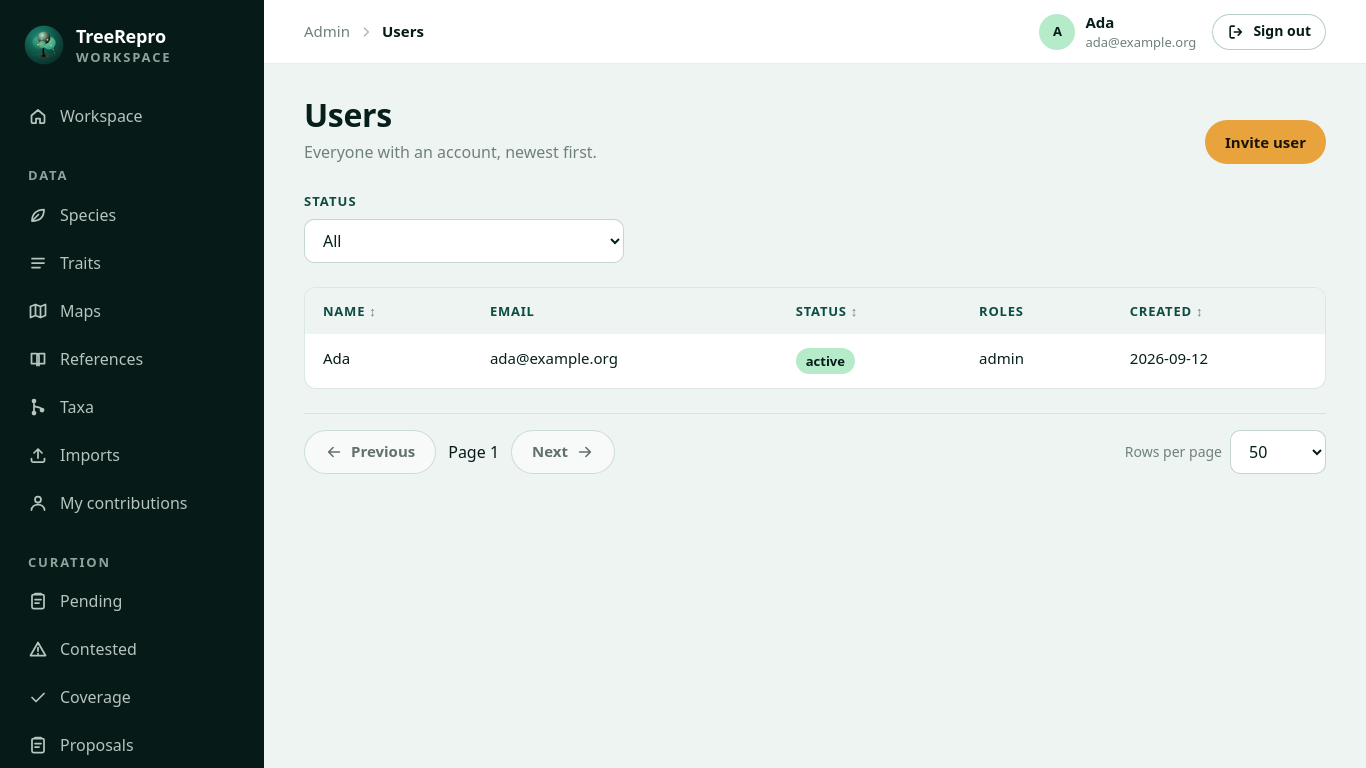
it: RFC-13 R2, RFC-50 R2 UsersPage › RFC-50 R3 invites a user and refreshes the list
Check: the heading "Users" is shown, box left=304, top=93, right=392, bottom=136
Check: the table is shown, box left=305, top=288, right=1325, bottom=388
Click the button "Invite user" at (1265, 142), box left=1205, top=120, right=1326, bottom=164
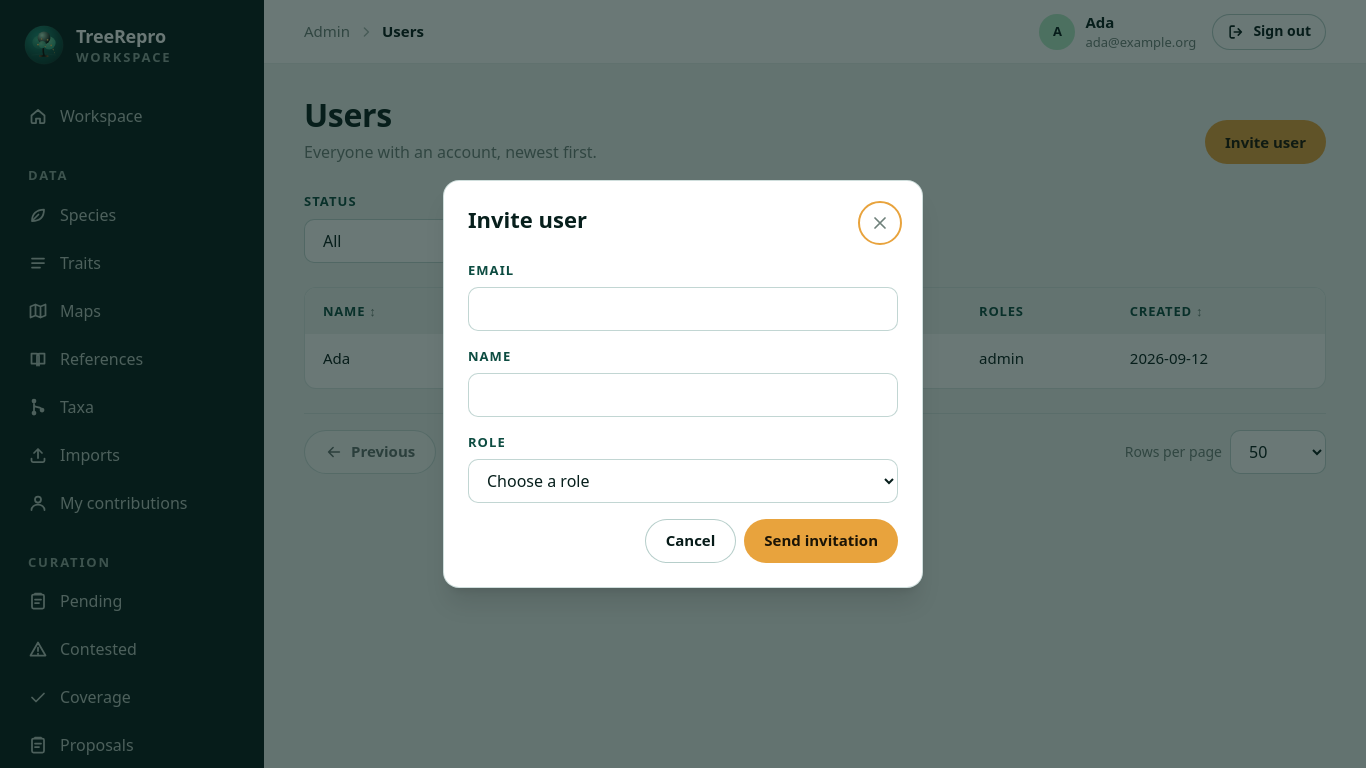
Type "bea@example.org" into the field labelled "Email" at (683, 309), box left=468, top=287, right=898, bottom=331
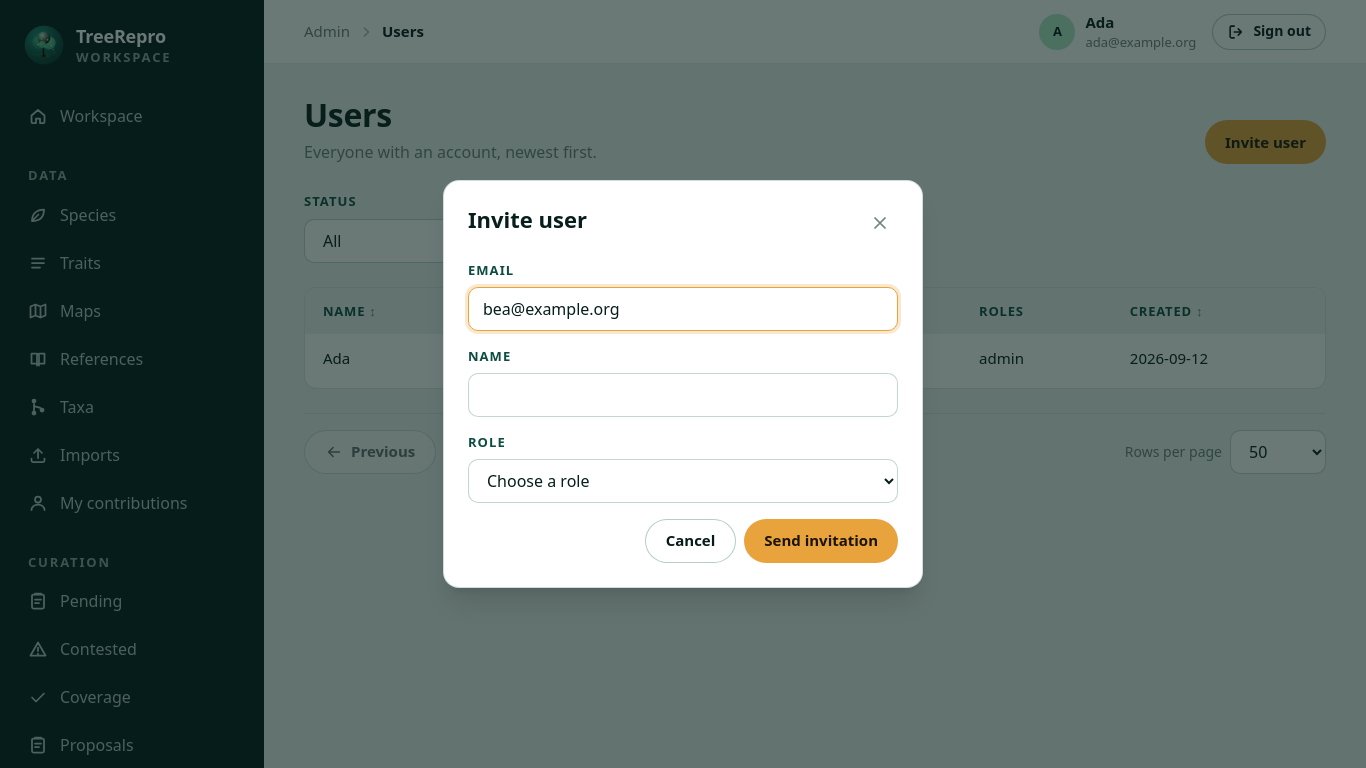
Type "Bea" into the field labelled "Name" at (683, 395), box left=468, top=373, right=898, bottom=417
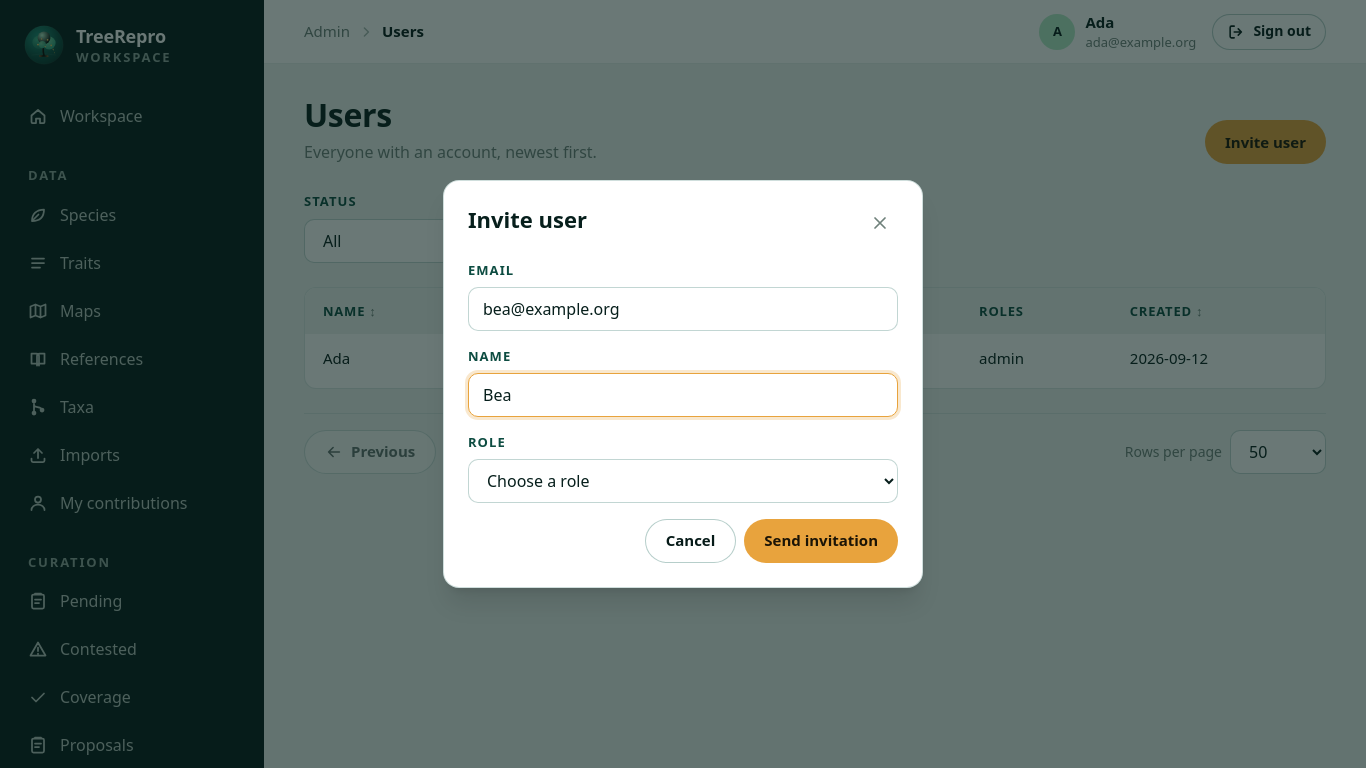
Select "Readers" in the dropdown labelled "Role" at (683, 481), box left=468, top=459, right=898, bottom=503
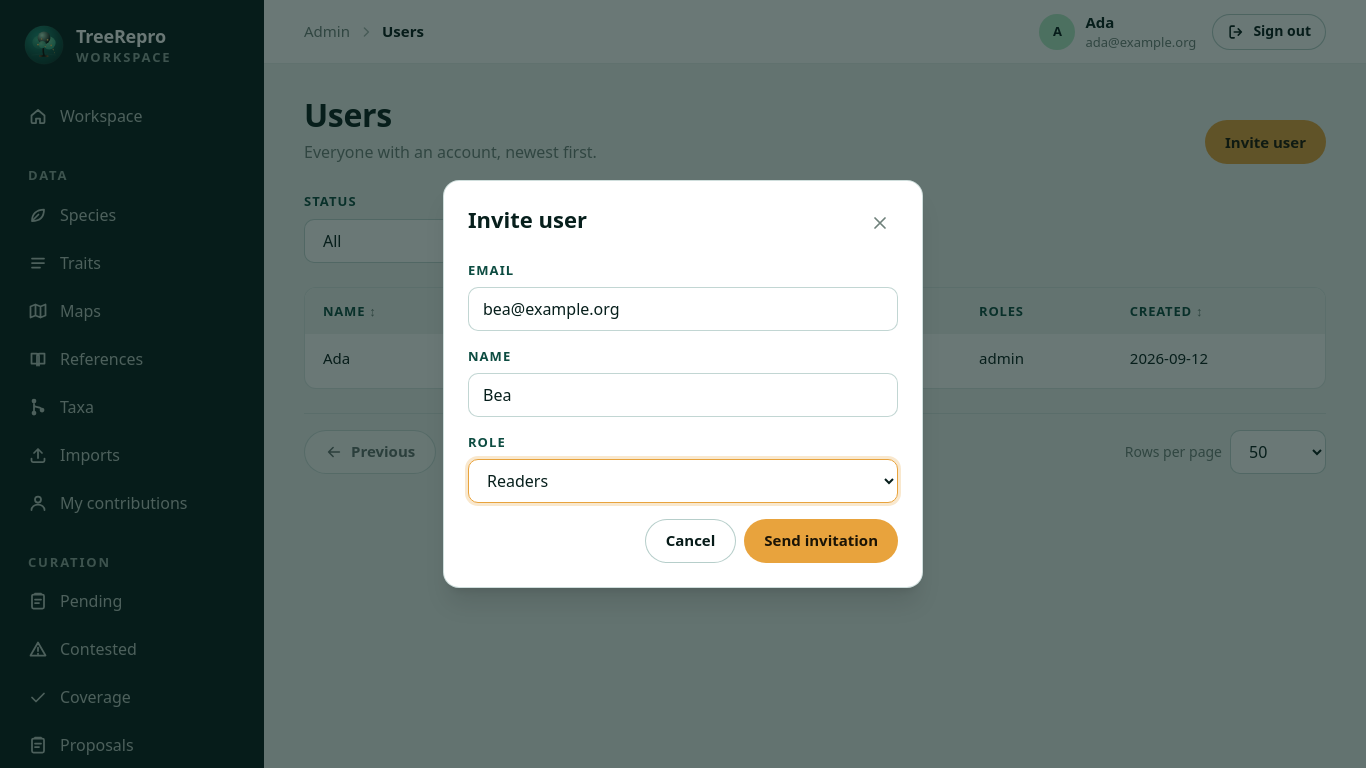
Click the button "Send invitation" at (821, 541), box left=744, top=519, right=898, bottom=563
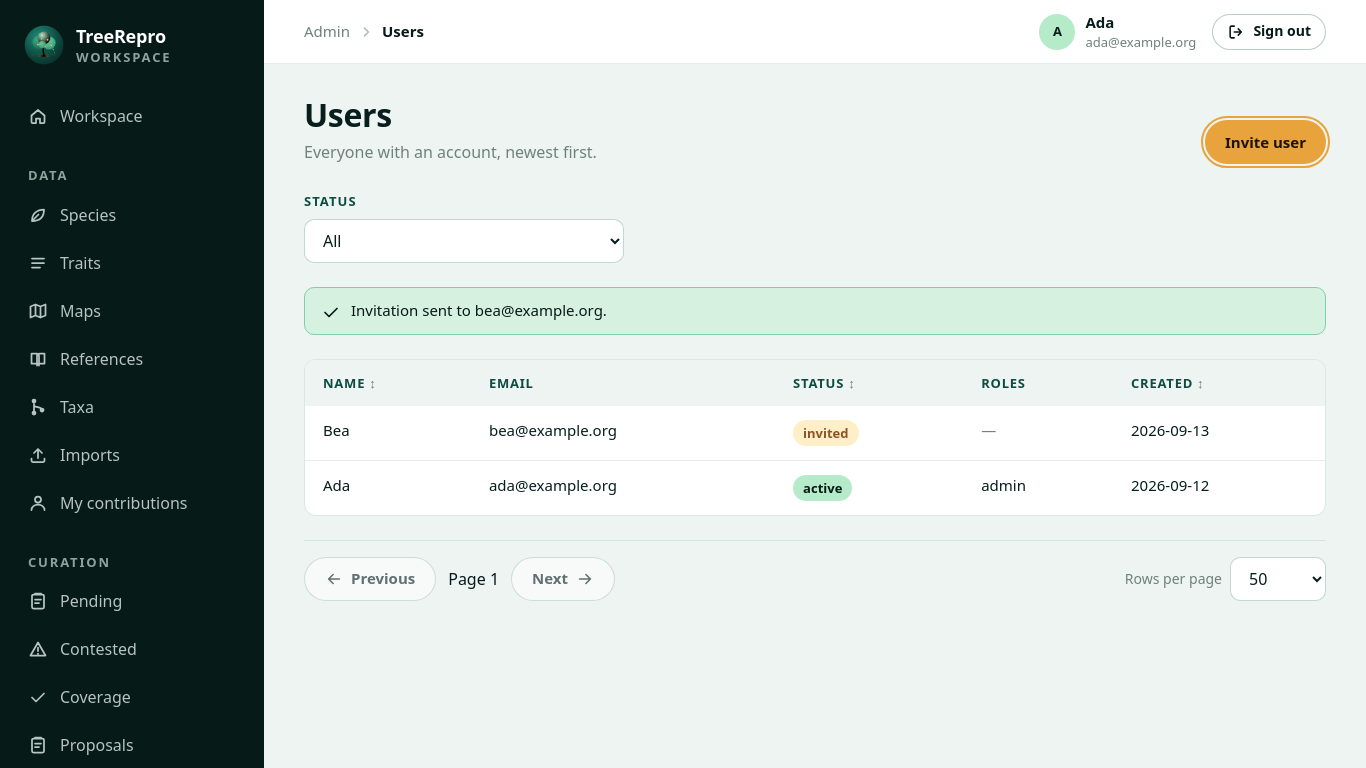
Check: the message reads "Invitation sent to bea@example.org.", box left=351, top=300, right=607, bottom=320
Check: the dialog is gone
Check: the link "Bea" is shown, box left=323, top=420, right=350, bottom=440
